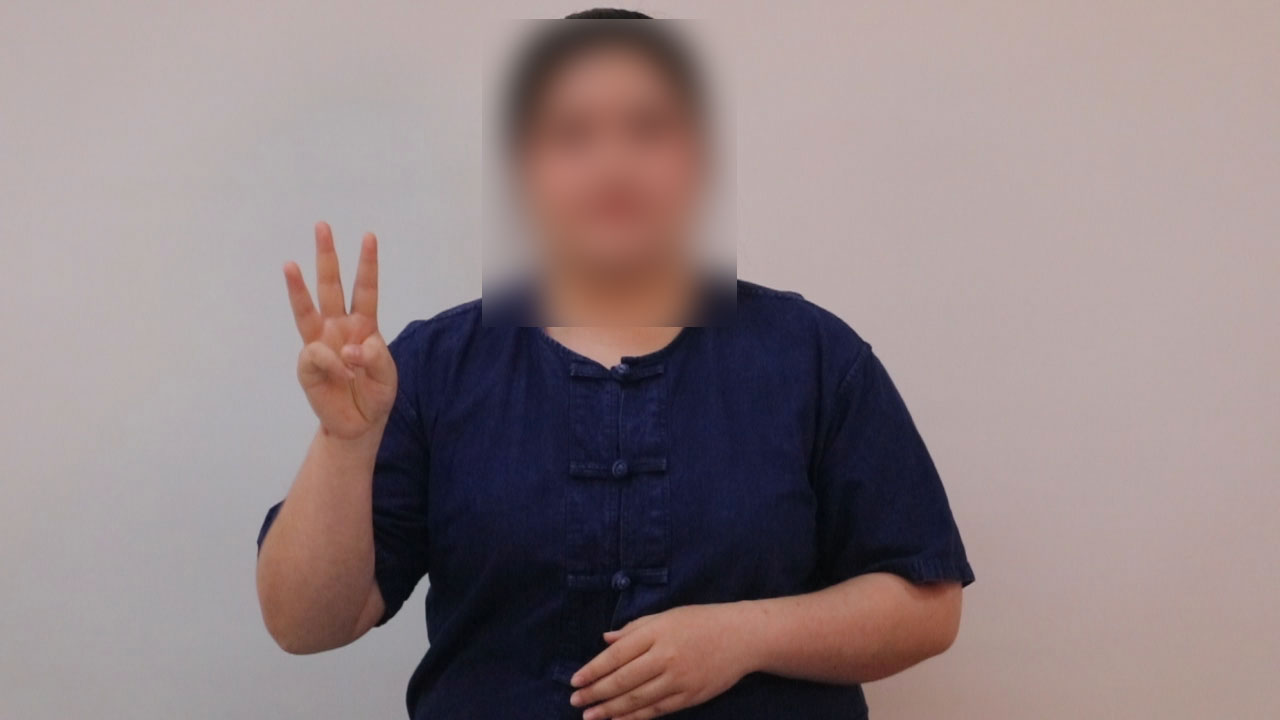wor: (272, 210, 409, 444)
